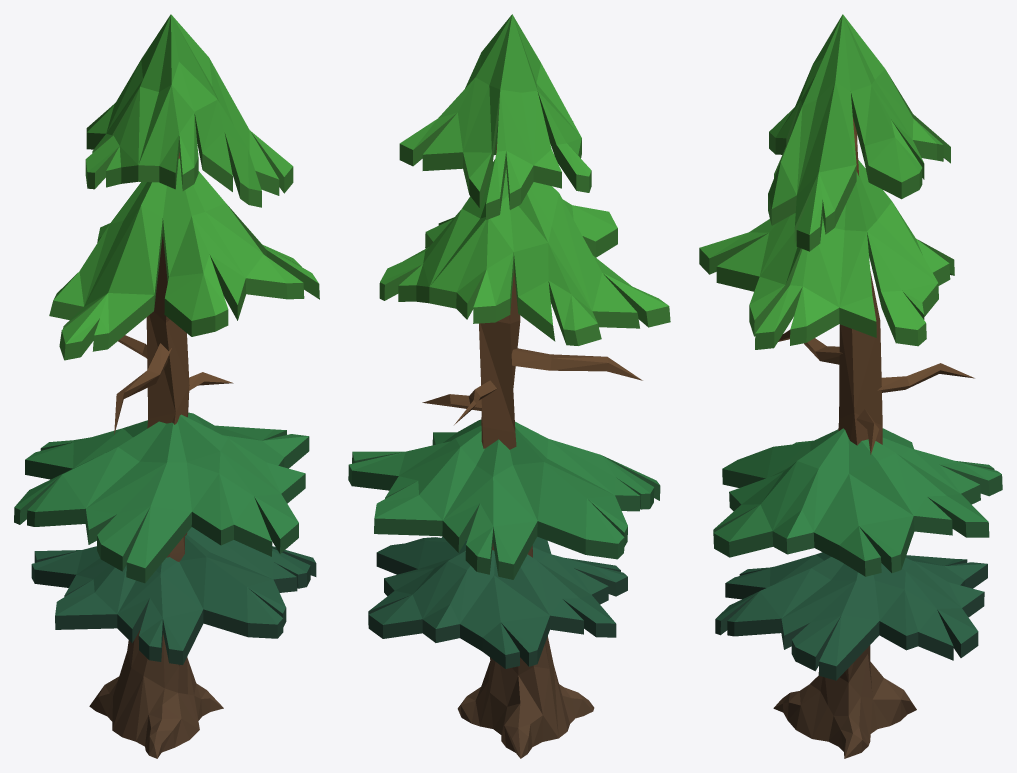
The model's file is um_tree001.FBX.
3 views of the same model, side by side, from view 1: azimuth 30°, elevation 25°; view 2: azimuth 150°, elevation 25°; view 3: azimuth 270°, elevation 25° (orthographic).
Parts seen in each view (by area): view 1: um_tree001; view 2: um_tree001; view 3: um_tree001.
Boxes of the visible parts, box(x1,y1,x2,y2) form: um_tree001: box(14, 14, 319, 758); um_tree001: box(348, 14, 670, 758); um_tree001: box(699, 14, 1002, 758).
Bounding box in the file's own units: 2.57 × 6.15 × 2.36.
